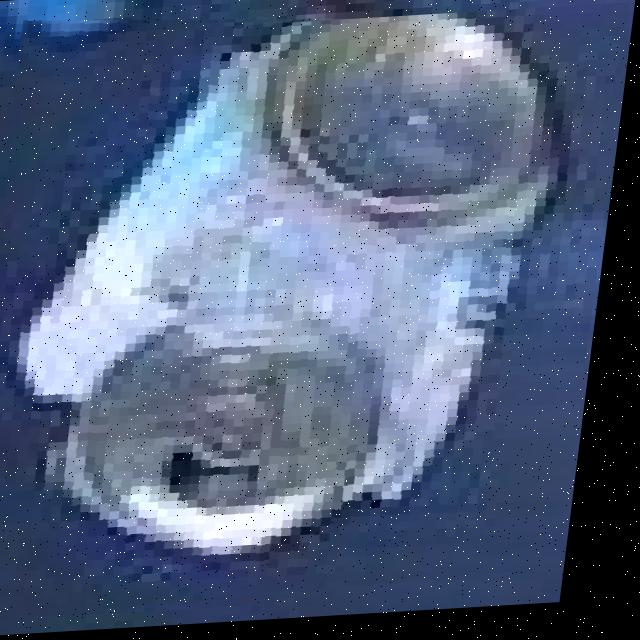litter: (0, 15, 625, 599)
